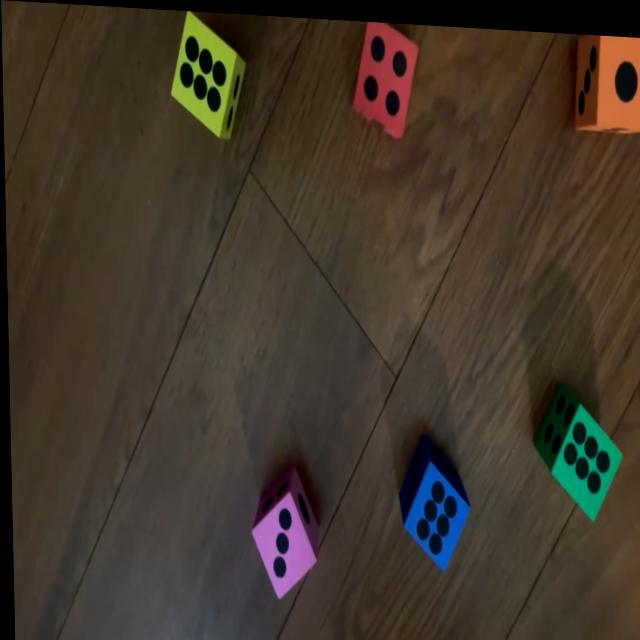cube: (532, 377, 621, 519), (395, 431, 468, 568), (348, 16, 418, 138)
